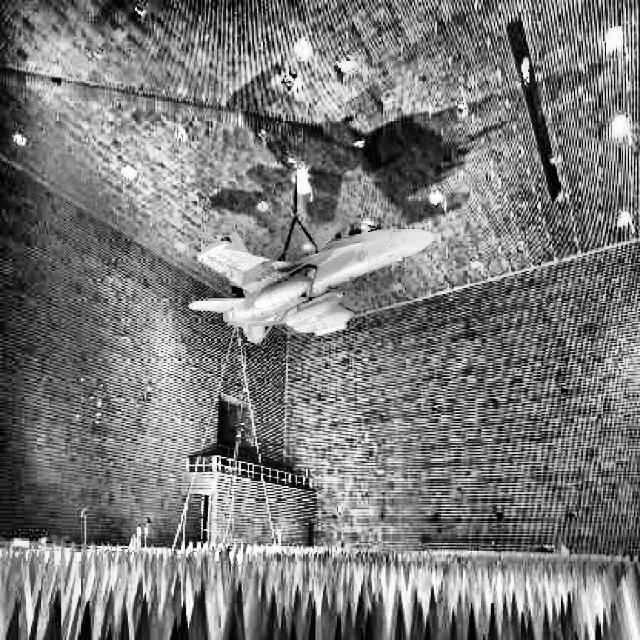F18: (188, 222, 435, 342)
